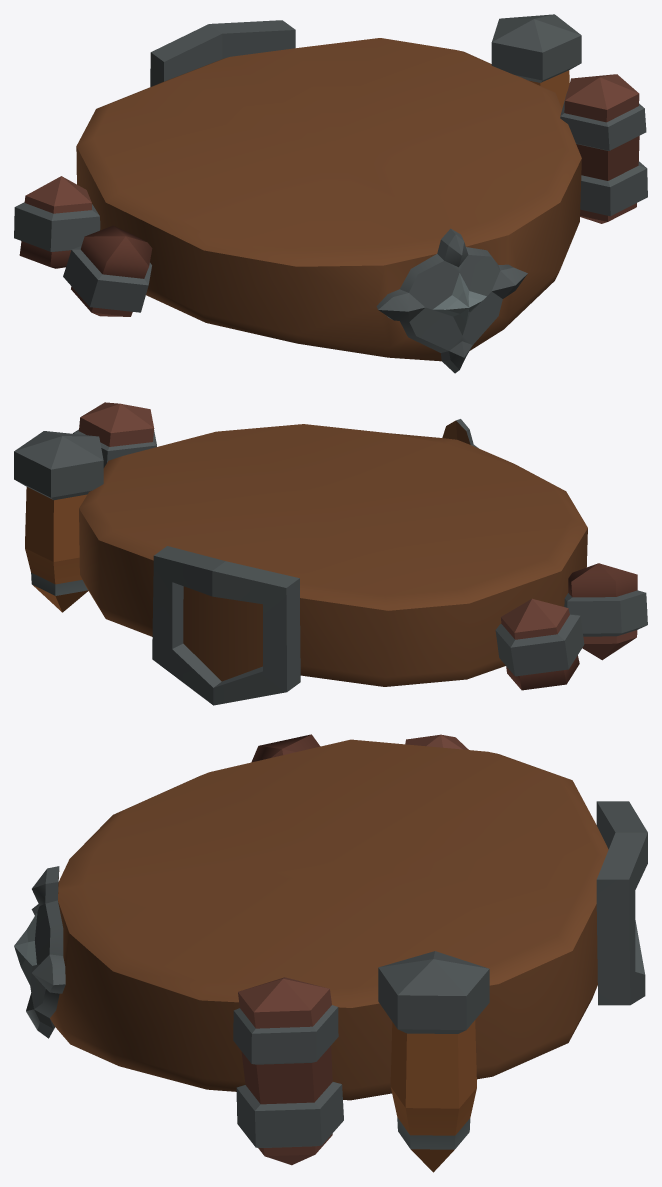
File: Chest_58.fbx
The picture shows the model from 3 angles, top to bottom: view 1: azimuth 30°, elevation 25°; view 2: azimuth 150°, elevation 25°; view 3: azimuth 270°, elevation 25°; orthographic projection. The views are drawn at different scales.
Parts seen in each view (by area): view 1: Chest_58; view 2: Chest_58; view 3: Chest_58.
Part boxes in pixels (left/top/right/bottom): Chest_58: left=14, top=14, right=647, bottom=373; Chest_58: left=14, top=402, right=647, bottom=705; Chest_58: left=14, top=734, right=647, bottom=1172.
Bounding box in the file's own units: 54.44 × 16.96 × 44.2.
